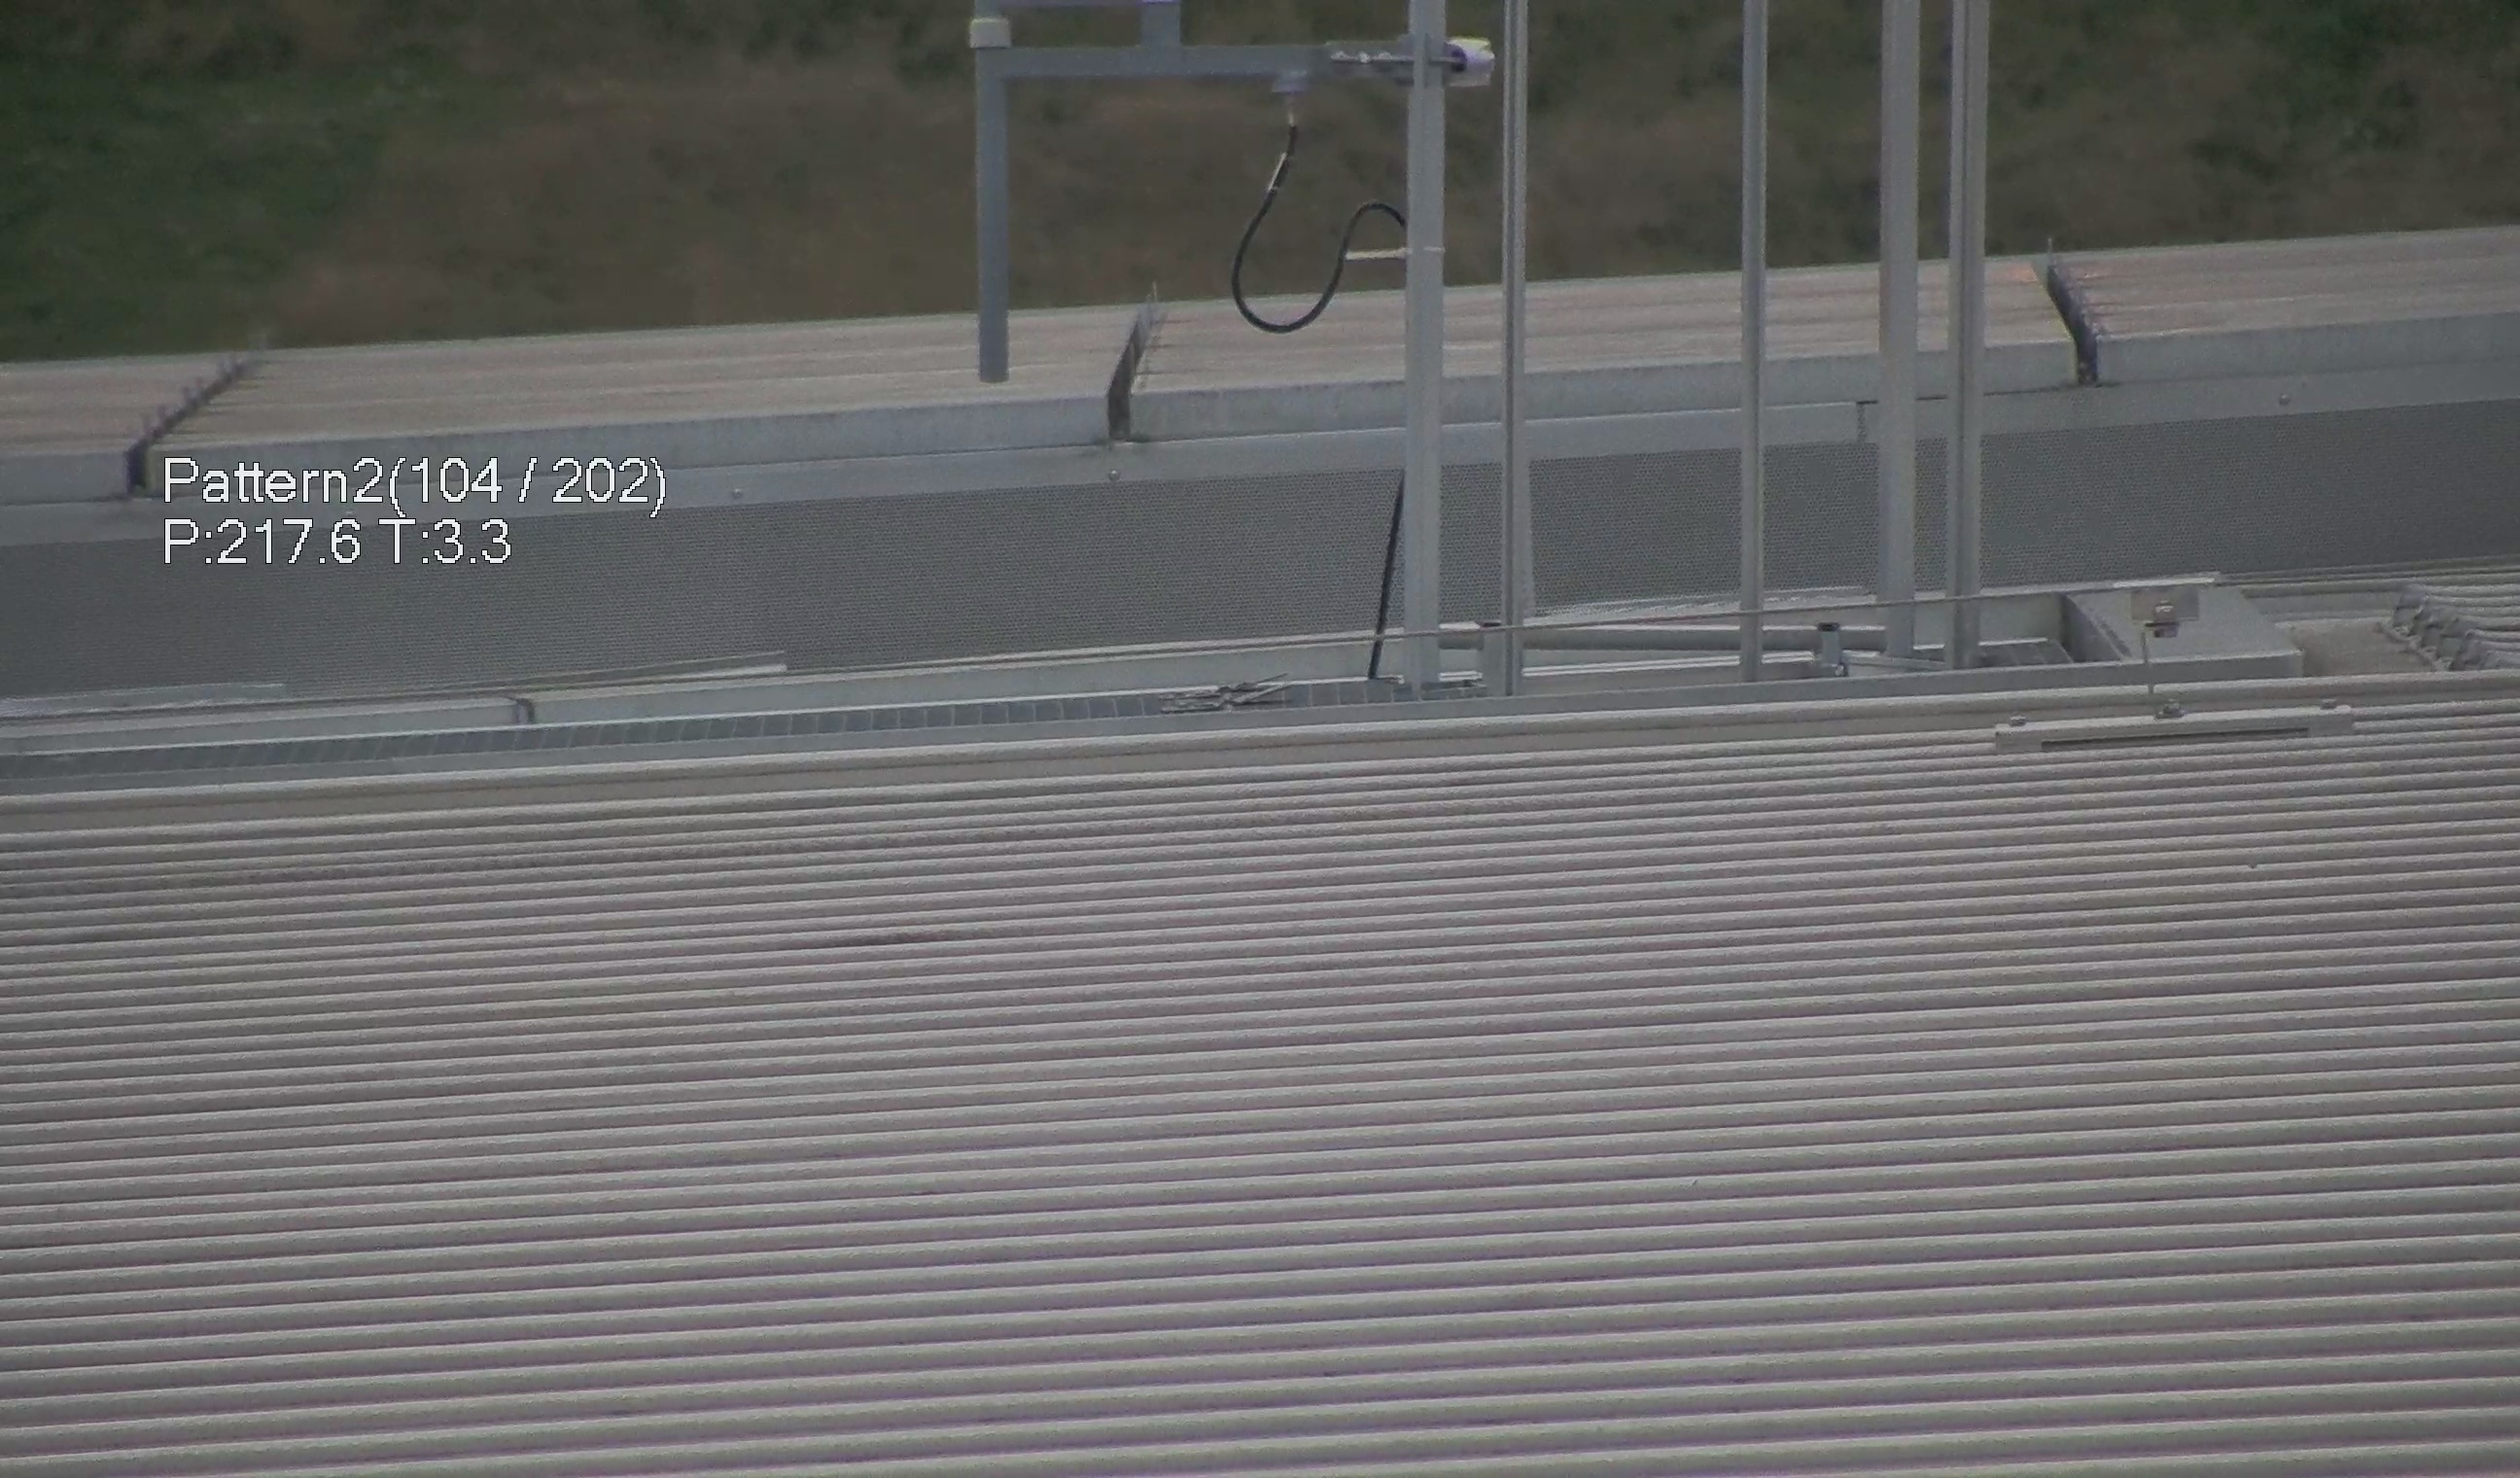Other: (2040, 239, 2131, 387)
